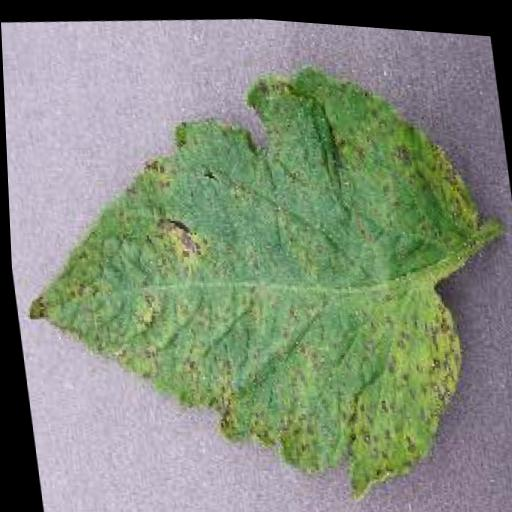Septoria: (1, 32, 512, 512)
